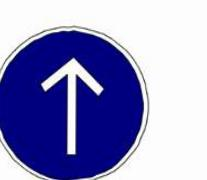forward: (1, 27, 147, 180)
